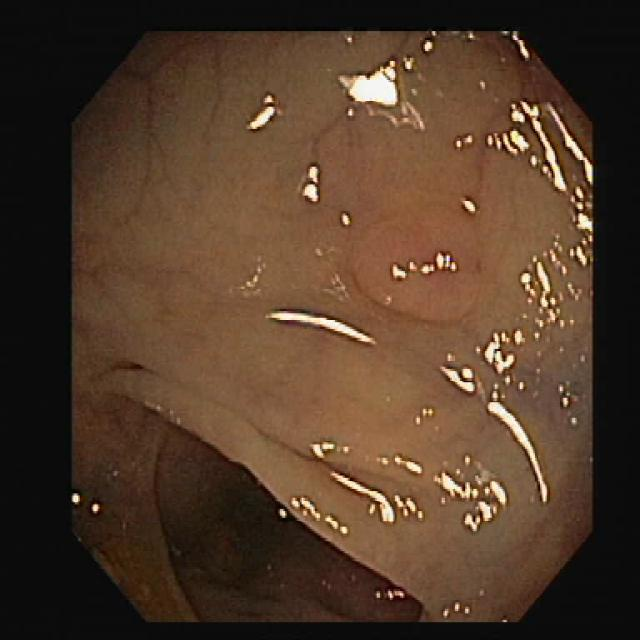tumor: (348, 182, 495, 329)
